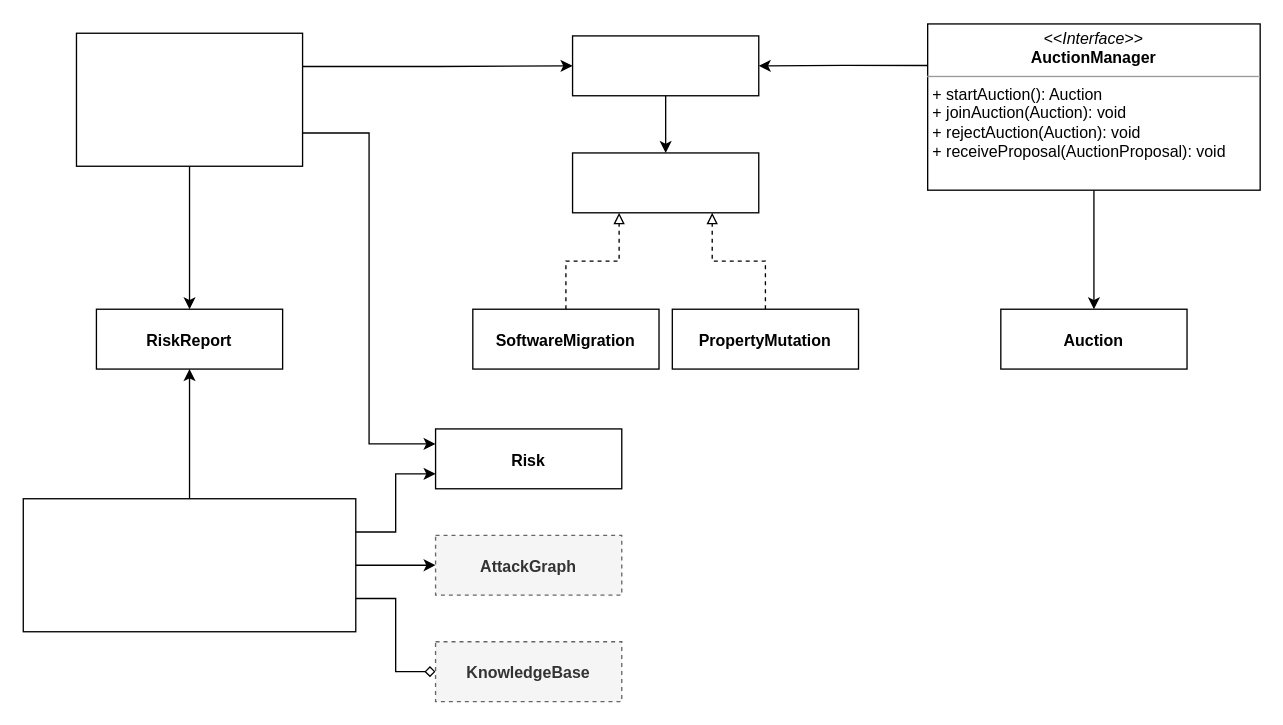
The diagram is 1283 pixels wide and 725 high, and some of its shapes have lost their labels. Each missing label, with the box of its shape:
<<Interface>> MitigationService +: (75, 32, 303, 166)
<<Interface>> RiskDetection + identifyRisks(KnowledgeBase): AttackGraph: (22, 497, 356, 632)
Mitigation: (571, 152, 759, 213)
Proposal: (571, 35, 759, 96)
